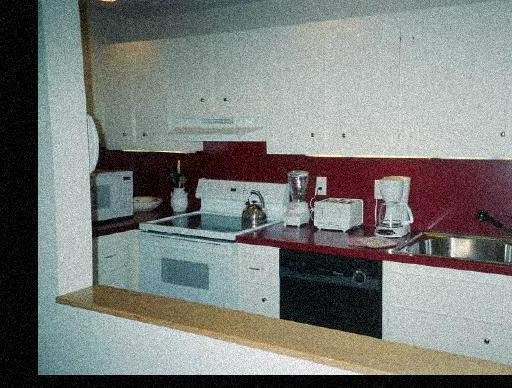Electrodomestico: (141, 221, 241, 360), (284, 245, 381, 336)
Lavaplatos: (406, 221, 512, 268)
